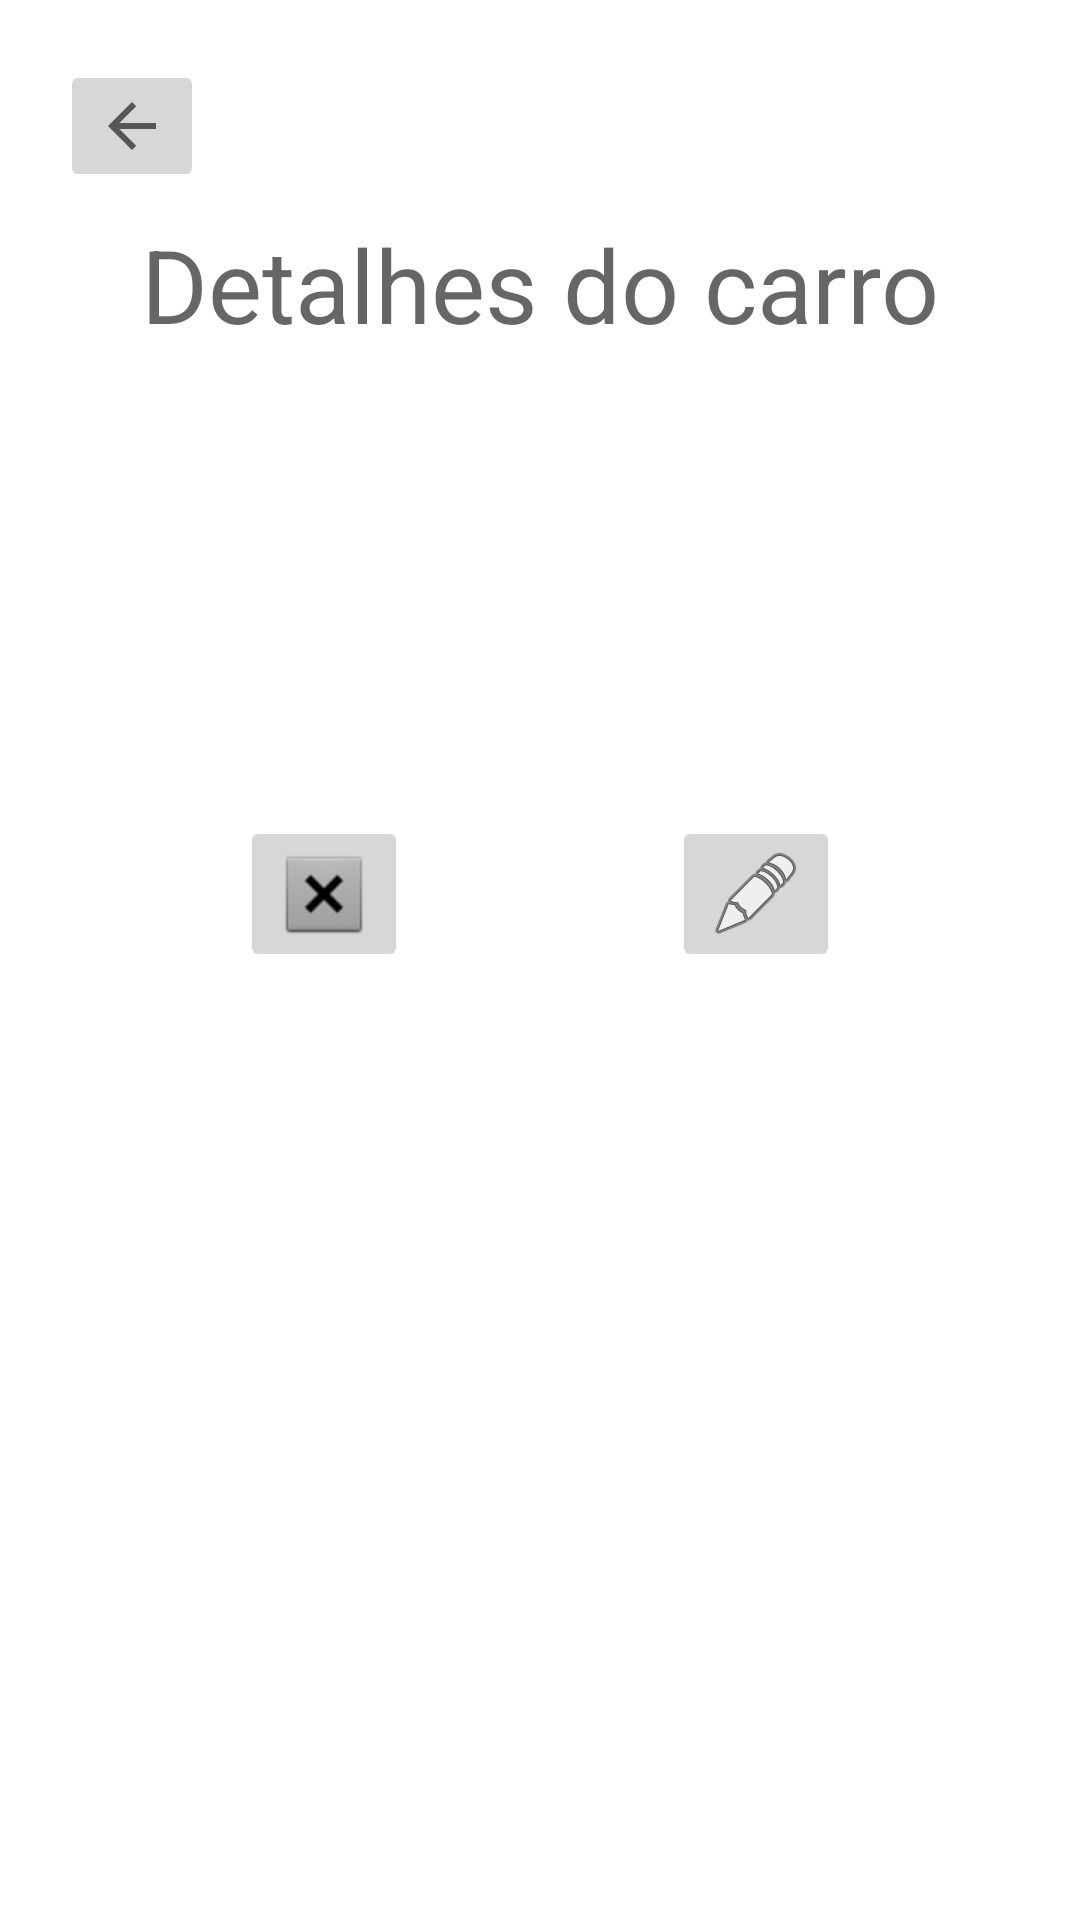

Locate icon controls on the screen. Image size 1080px x 1920px, boxes as (x1, y1, x2, y2).
edit: (684, 834, 828, 954)
